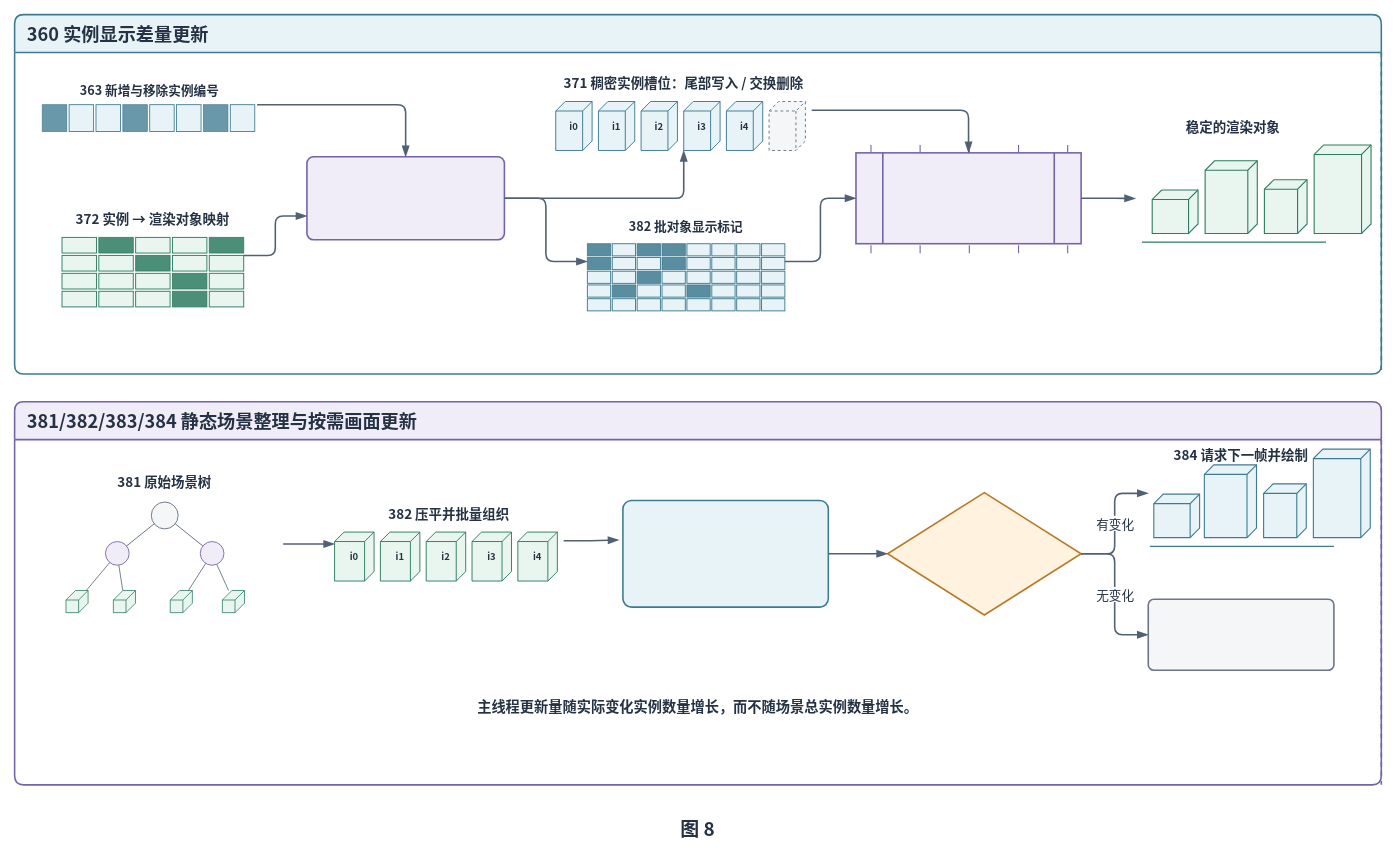
Some shapes in this 1395 by 855 pixel diagram are drawn without their labels. Here are the shapes that lost their labels. From the top down, the centre of each, then its label:
At [405,198]: "根据实例编号定位 几何原型或批对象".
At [968,198]: "373 局部矩阵与标记上传".
At [725,553]: "383 收集变化事件 相机、资源、实例集合 材质或动画".
At [984,553]: "存在需要绘制的变化？".
At [1240,634]: "暂停连续刷新 等待变化事件".
